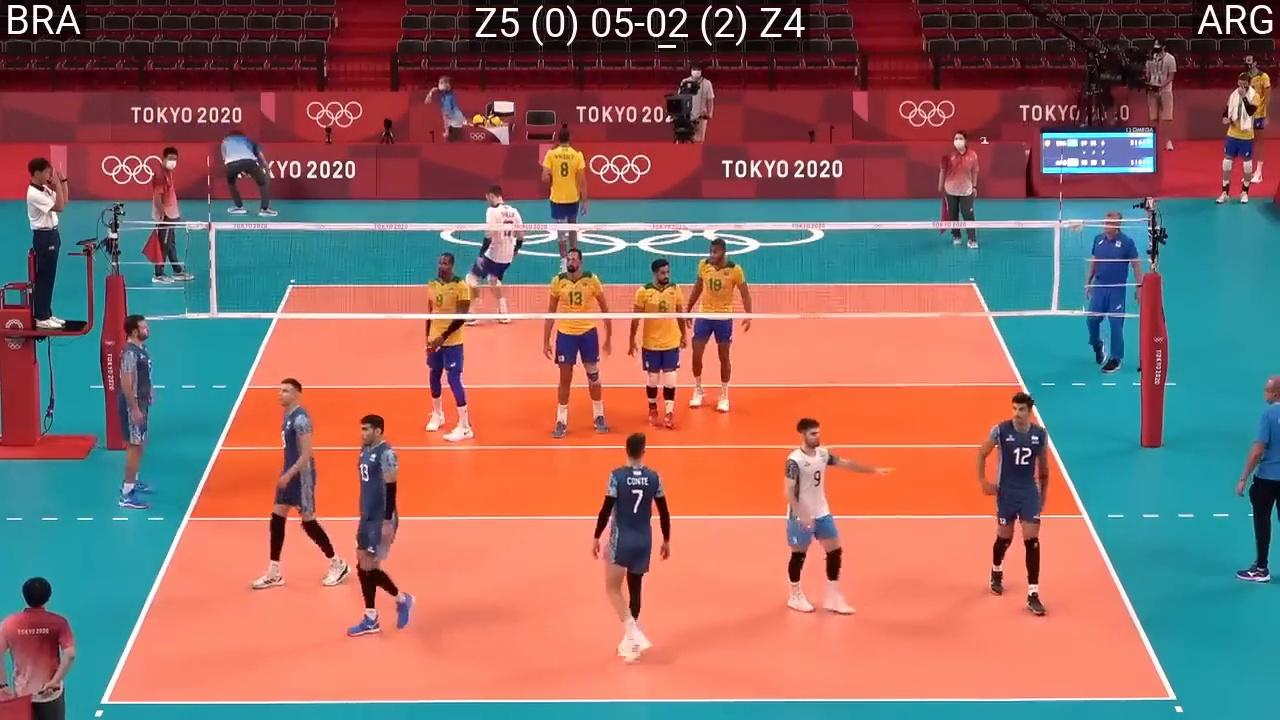ball: (471, 112, 486, 128)
